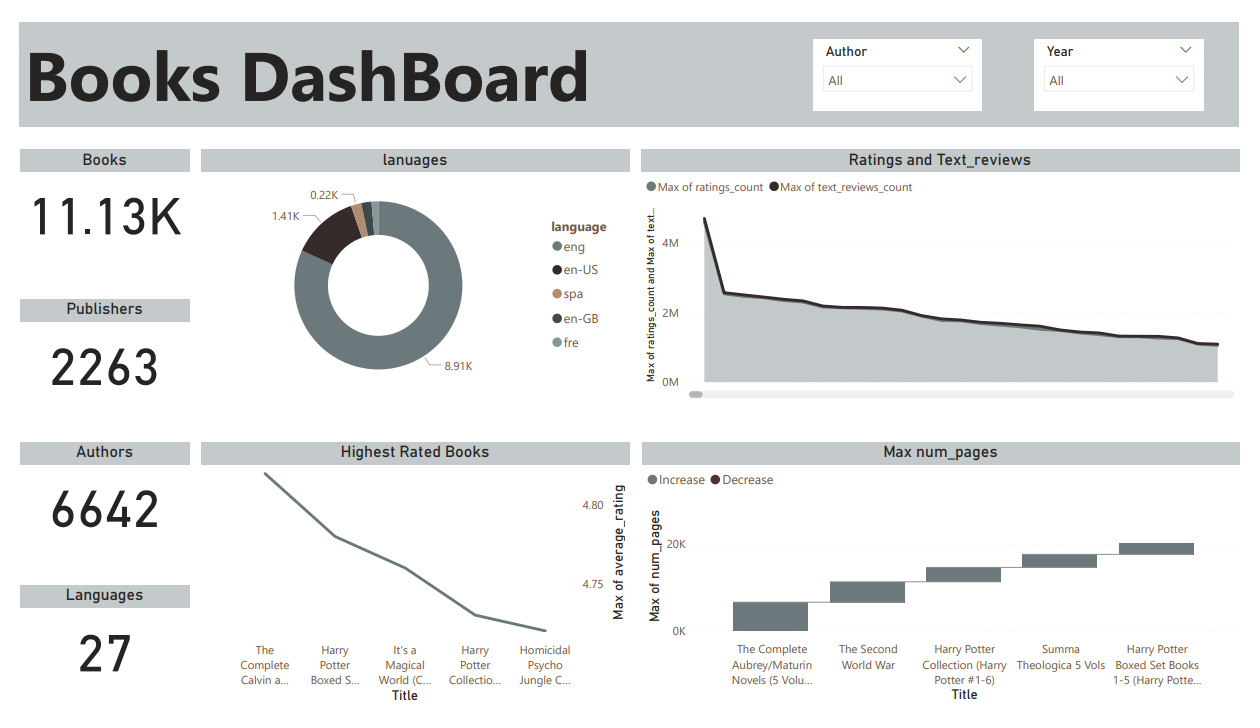

This screenshot's page, from the dashboard's own definition file:
{"tool":"powerbi","page":{"name":"Page 1","canvas":[1280,720],"ordinal":0},"visuals":[{"type":"slicer","fields":{"Values":["Goodreads_books_with_genres.publisher"]},"box":[550.3,18.2,266.6,74.1],"z":0},{"type":"textbox","box":[0,1.3,1280,109.2],"z":1000},{"type":"card","title":"Books","fields":{"Values":["CountNonNull(Goodreads_books_with_genres.Title)"]},"box":[0,135.3,177.6,107.1],"z":2000},{"type":"card","title":"Publishers","fields":{"Values":["Count(Goodreads_books_with_genres.publisher)"]},"box":[0,291.8,177.6,109.4],"z":3000},{"type":"card","title":"Authors","fields":{"Values":["Count(Goodreads_books_with_genres.Author)"]},"box":[0,442.4,177.6,107.1],"z":4000},{"type":"card","title":"Languages","fields":{"Values":["Count(Goodreads_books_with_genres.language_code)"]},"box":[0,591.8,177.6,110.6],"z":5000},{"type":"lineChart","title":"Highest Rated Books","fields":{"Category":["Goodreads_books_with_genres.Title"],"Y2":["Max(Goodreads_books_with_genres.average_rating)"]},"box":[190.2,442.1,449.8,277.6],"z":6000},{"type":"slicer","fields":{"Values":["Goodreads_books_with_genres.Year"]},"box":[1065.4,19.3,177.3,74.5],"z":7000},{"type":"slicer","fields":{"Values":["Goodreads_books_with_genres.Author"]},"box":[832.8,19.3,177.3,74.5],"z":8000},{"type":"waterfallChart","title":"Max num_pages ","fields":{"Category":["Goodreads_books_with_genres.Title"],"Y":["Max(Goodreads_books_with_genres.num_pages)"]},"box":[652.9,442.1,627.1,277.6],"z":9000},{"type":"stackedAreaChart","title":"Ratings and Text_reviews","fields":{"Category":["Goodreads_books_with_genres.Title"],"Y":["Max(Goodreads_books_with_genres.ratings_count)","Max(Goodreads_books_with_genres.text_reviews_count)"]},"box":[652.4,135.1,627.1,266],"z":10000},{"type":"donutChart","title":"lanuages","fields":{"Category":["Goodreads_books_with_genres.language_code"],"Y":["CountNonNull(Goodreads_books_with_genres.language_code)"]},"box":[190,135.1,449.7,266],"z":11000}]}

Visuals, with their boxes in screenshot pixels (x1, y1, x2, y2), scaled from the page's 1280x720 canvas onto the 1260x728 screenshot:
slicer - Goodreads_books_with_genres.publisher: rect(542, 18, 804, 93)
textbox: rect(0, 1, 1259, 112)
"Books" card: rect(0, 137, 175, 245)
"Publishers" card: rect(0, 295, 175, 406)
"Authors" card: rect(0, 447, 175, 556)
"Languages" card: rect(0, 598, 175, 710)
"Highest Rated Books" lineChart: rect(187, 447, 630, 727)
slicer - Goodreads_books_with_genres.Year: rect(1049, 20, 1223, 95)
slicer - Goodreads_books_with_genres.Author: rect(820, 20, 994, 95)
"Max num_pages " waterfallChart: rect(643, 447, 1259, 727)
"Ratings and Text_reviews" stackedAreaChart: rect(642, 137, 1259, 406)
"lanuages" donutChart: rect(187, 137, 630, 406)
